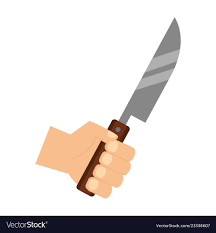knife: (74, 12, 183, 198)
